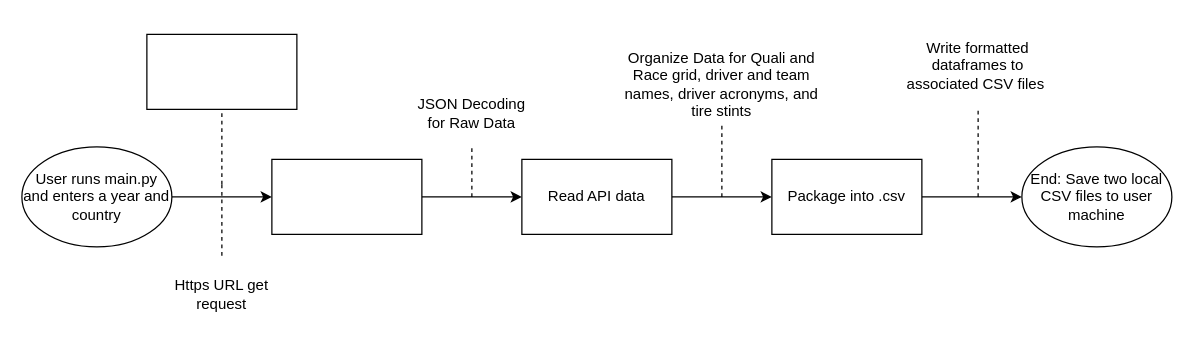
The diagram is 1194 pixels wide and 349 high, and some of its shapes have lost their labels. Here are the shapes that lost their labels. From the top down, the centre of each, then its label:
At (221,71): "Inputs: Valid year and country".
At (346,196): "Ping OpenF1 API".
